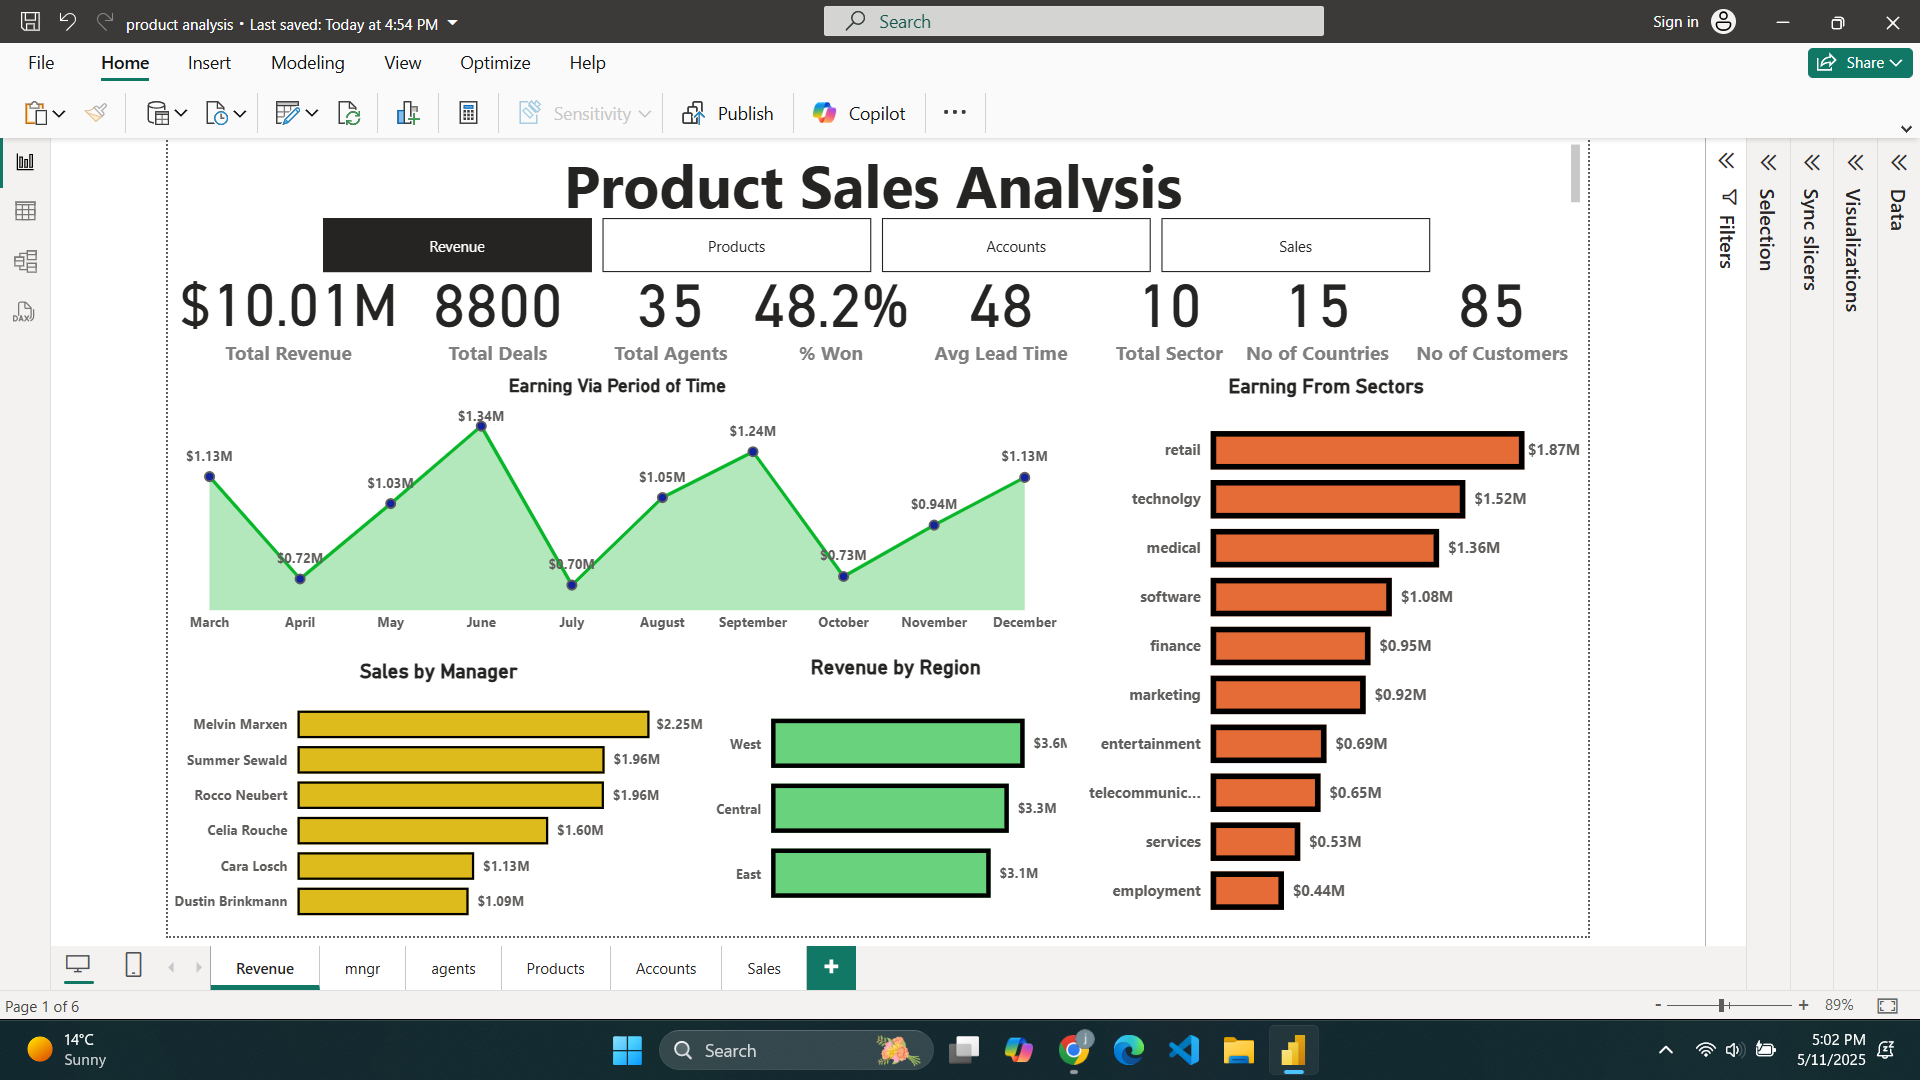

What the dashboard file says about the page in this screenshot:
{"tool":"powerbi","page":{"name":"Revenue","canvas":[1280,720],"ordinal":0},"visuals":[{"type":"card","fields":{"Values":["sales_pipeline.deal_stage"]},"box":[217.6,97.1,160,117.1],"z":0},{"type":"card","fields":{"Values":["sales_pipeline.close_value"]},"box":[0.5,97.1,218.1,116.5],"z":1000},{"type":"card","fields":{"Values":["sales_teams.sales_agent"]},"box":[390.5,97.1,127.1,117.1],"z":2000},{"type":"card","fields":{"Values":["sales_pipeline.Win Percentage"]},"box":[517.6,97.1,161.4,117.1],"z":3000},{"type":"card","fields":{"Values":["sales_pipeline.Average Days"]},"box":[679,97.1,145.7,117.1],"z":4000},{"type":"card","fields":{"Values":["accounts.sector"]},"box":[843.3,97.1,120,117.1],"z":5000},{"type":"card","fields":{"Values":["accounts.country"]},"box":[963.3,97.1,145.7,117.1],"z":6000},{"type":"card","fields":{"Values":["accounts.account"]},"box":[1109,97.1,170,117.1],"z":7000},{"type":"lineChart","title":"Earning Via Period of Time","fields":{"Y":["sales_pipeline.close_value"],"Category":["sales_pipeline.close_date.Variation.Date Hierarchy.Month"]},"box":[0,213.5,810.6,242.1],"z":8000},{"type":"barChart","title":"Sales by Manager","fields":{"Category":["sales_teams.manager"],"Y":["sales_pipeline.close_value"]},"box":[0,470.4,487.8,249.5],"z":9000},{"type":"barChart","title":"Revenue by Region","fields":{"Category":["sales_teams.regional_office"],"Y":["sales_pipeline.close_value"]},"box":[487.8,466.7,336.4,249.5],"z":10000},{"type":"barChart","title":"Earning From Sectors","fields":{"Category":["accounts.sector"],"Y":["sales_pipeline.close_value"]},"box":[810.6,213.5,468,506.4],"z":11000},{"type":"textbox","box":[1.2,1.2,1277.3,70.8],"z":12000},{"type":"pageNavigator","box":[140.3,72,1000.5,49.7],"z":13000}]}

Visuals, with their boxes on the page's 1280x720 design canvas (x1, y1, x2, y2). These are canvas units, not pixel positions in the 1920x1080 screenshot, which may show the page scaled, cropped or inside an application window:
card - sales_pipeline.deal_stage: bbox(218, 97, 378, 214)
card - sales_pipeline.close_value: bbox(0, 97, 219, 214)
card - sales_teams.sales_agent: bbox(390, 97, 518, 214)
card - sales_pipeline.Win Percentage: bbox(518, 97, 679, 214)
card - sales_pipeline.Average Days: bbox(679, 97, 825, 214)
card - accounts.sector: bbox(843, 97, 963, 214)
card - accounts.country: bbox(963, 97, 1109, 214)
card - accounts.account: bbox(1109, 97, 1279, 214)
"Earning Via Period of Time" lineChart: bbox(0, 214, 811, 456)
"Sales by Manager" barChart: bbox(0, 470, 488, 720)
"Revenue by Region" barChart: bbox(488, 467, 824, 716)
"Earning From Sectors" barChart: bbox(811, 214, 1279, 720)
textbox: bbox(1, 1, 1278, 72)
pageNavigator: bbox(140, 72, 1141, 122)
